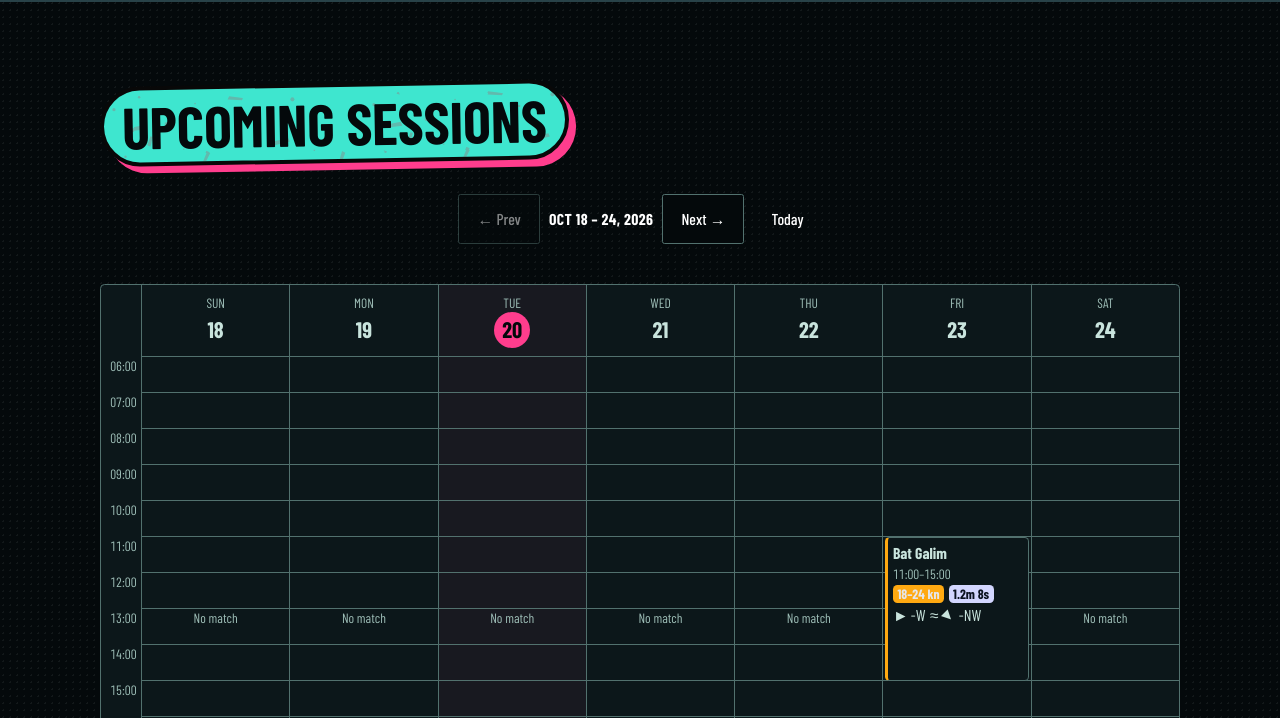
Test: names the session date once when it starts and ends on the same day
Click the button "Bat Galim 11:00 – 15:00 18–24 kn 1.2m 8s ► -W ≈ ► -NW": [957, 609] box [885,537,1029,681]
(page scrolled)
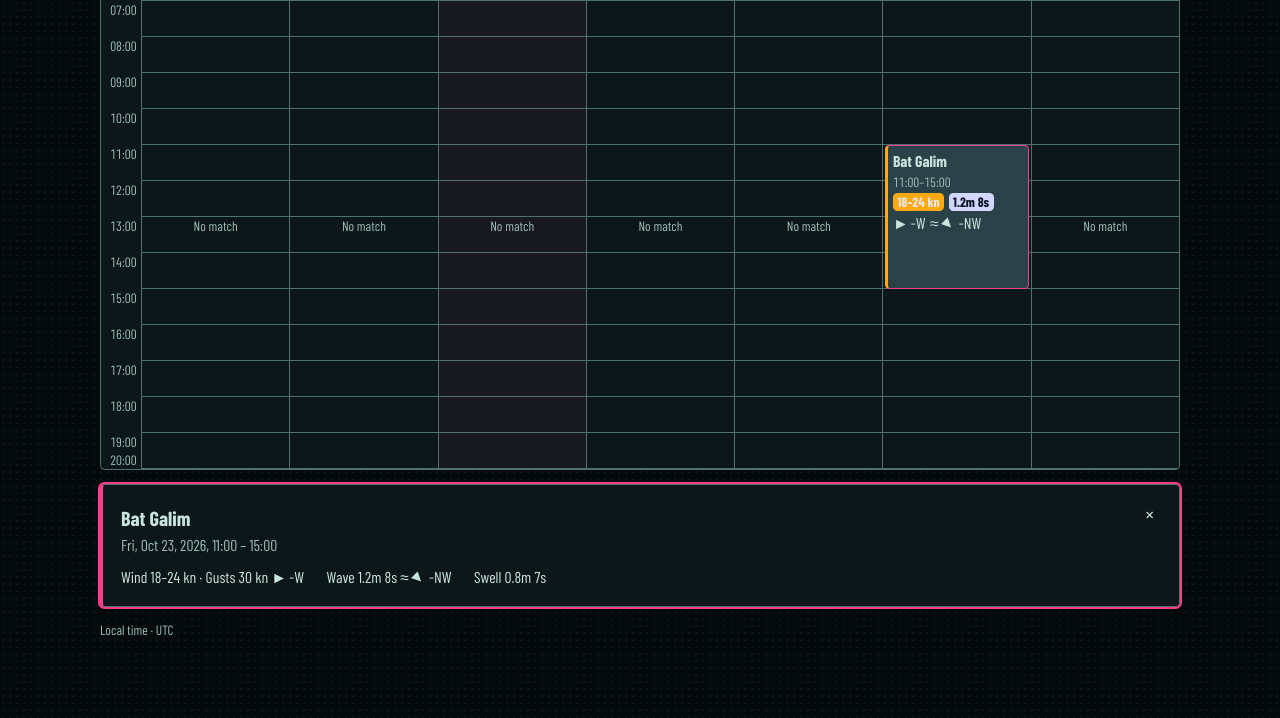
Check: the element named "Session details" shows "Fri, Oct 23, 2026, 11:00 – 15:00", box [100,484,1180,607]
